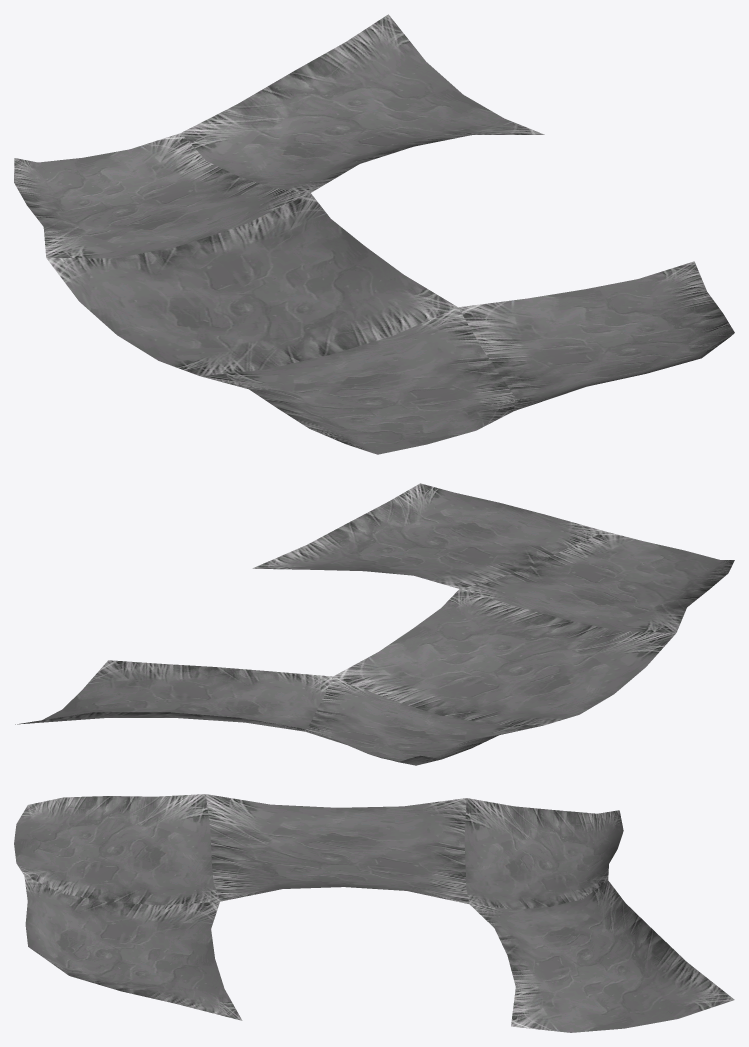
The model's file is SWORDLIGHT20_PS-AREA01_20.fbx.
3 renders of one model, top to bottom at view 1: azimuth 30°, elevation 25°; view 2: azimuth 150°, elevation 25°; view 3: azimuth 270°, elevation 25°, orthographic. The views are drawn at different scales.
Parts seen in each view (by area): view 1: SWORDLIGHT20_PS-AREA01_20; view 2: SWORDLIGHT20_PS-AREA01_20; view 3: SWORDLIGHT20_PS-AREA01_20.
Part boxes in pixels (left/top/right/bottom): SWORDLIGHT20_PS-AREA01_20: left=14, top=14, right=734, bottom=454; SWORDLIGHT20_PS-AREA01_20: left=15, top=483, right=734, bottom=765; SWORDLIGHT20_PS-AREA01_20: left=14, top=794, right=734, bottom=1032.
Bounding box in the file's own units: 113860 × 10308 × 163956.
Materials: 3 (3 with a texture image).
